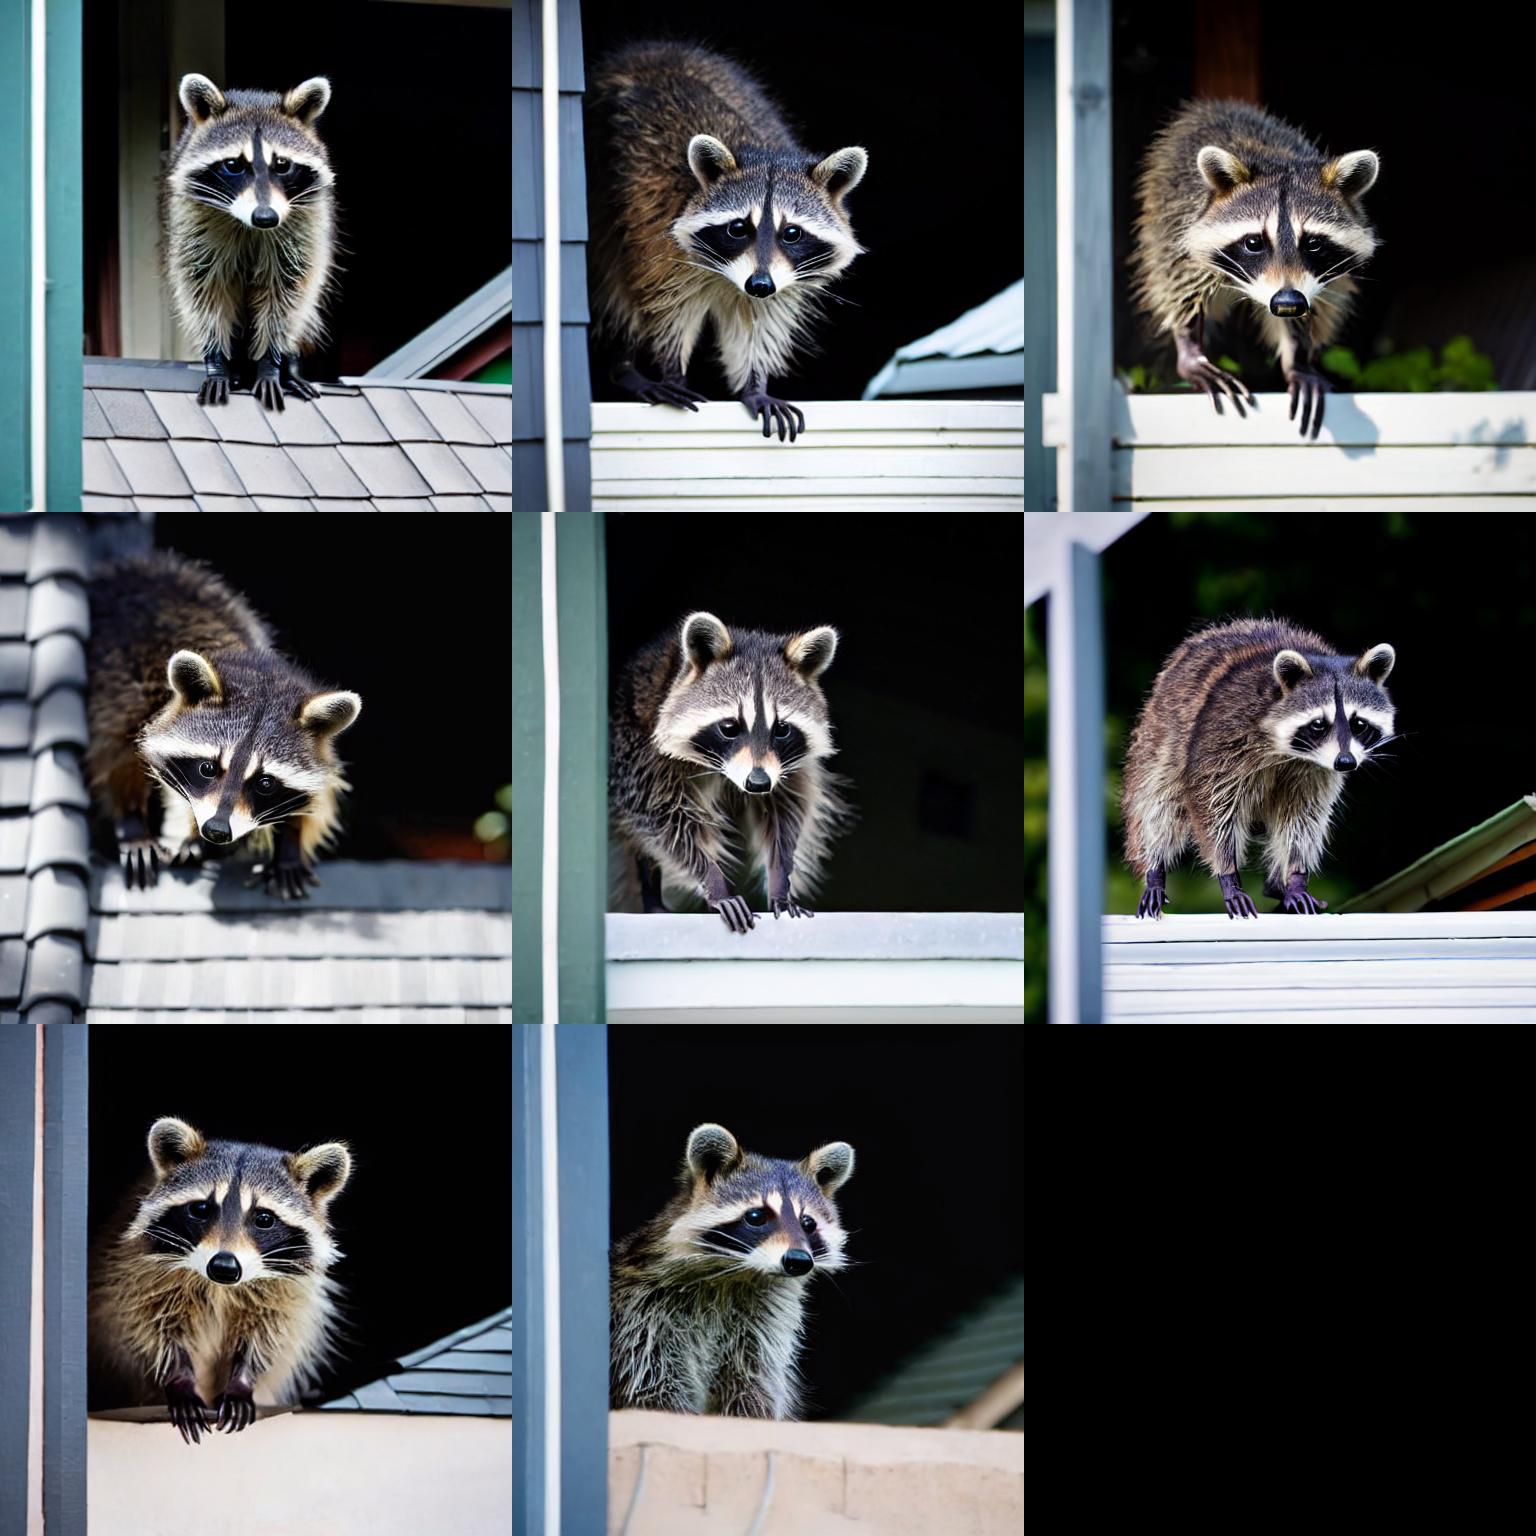raccoon: (585, 21, 876, 399), (97, 550, 371, 868), (1117, 606, 1404, 904), (1118, 83, 1400, 376), (96, 1106, 359, 1415), (613, 1107, 871, 1416), (608, 602, 855, 906), (153, 59, 347, 381)
